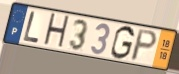3: (89, 22, 112, 56), (68, 18, 90, 52)
G: (109, 25, 136, 61)
H: (41, 12, 71, 51)
L: (22, 10, 41, 44)
P: (129, 28, 159, 63)
